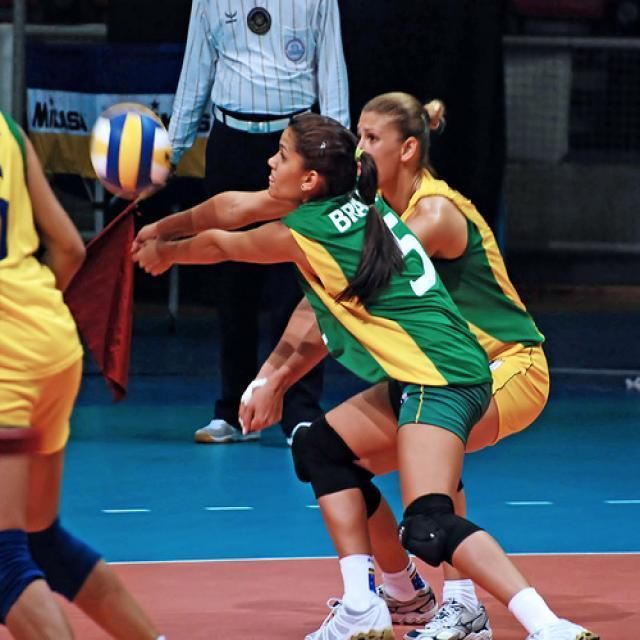volleyball: (90, 102, 172, 200)
